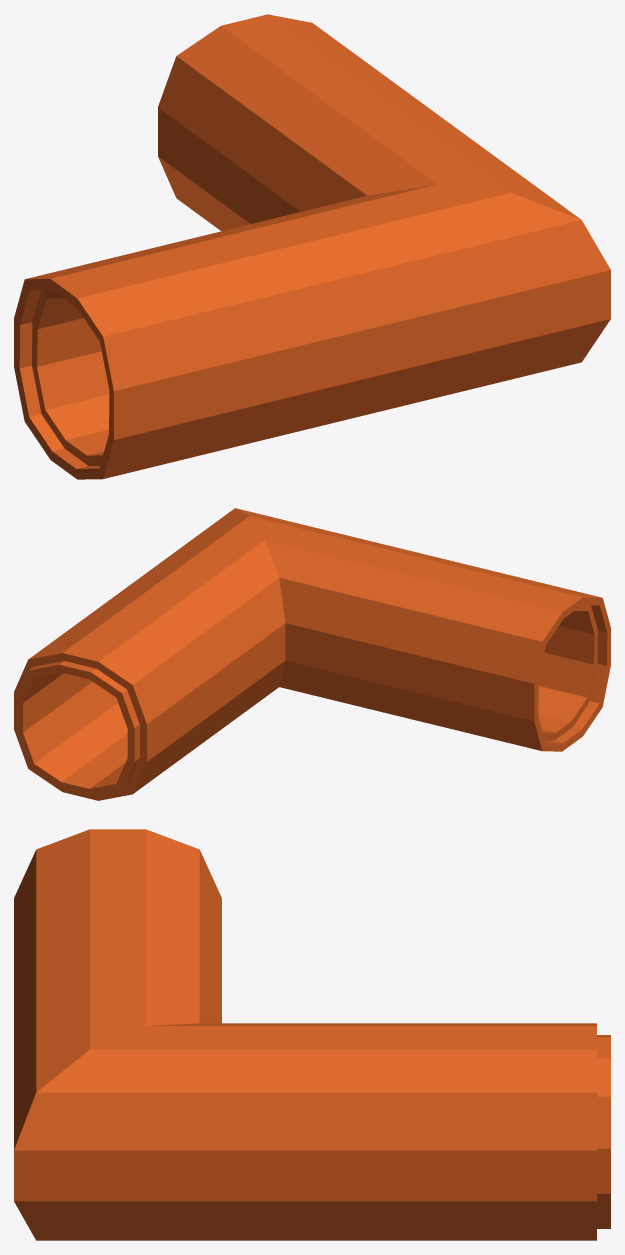
3 renders of one model, top to bottom at view 1: azimuth 30°, elevation 25°; view 2: azimuth 150°, elevation 25°; view 3: azimuth 270°, elevation 25°, orthographic. The views are drawn at different scales.
Visible parts, largest first — view 1: I-40; view 2: I-40; view 3: I-40.
Boxes of the visible parts, x1,y1,x2,y2 form: I-40: (14, 14, 610, 479); I-40: (14, 508, 610, 800); I-40: (14, 829, 610, 1240).
Size of the model in its own units: 410 by 143 by 410.
